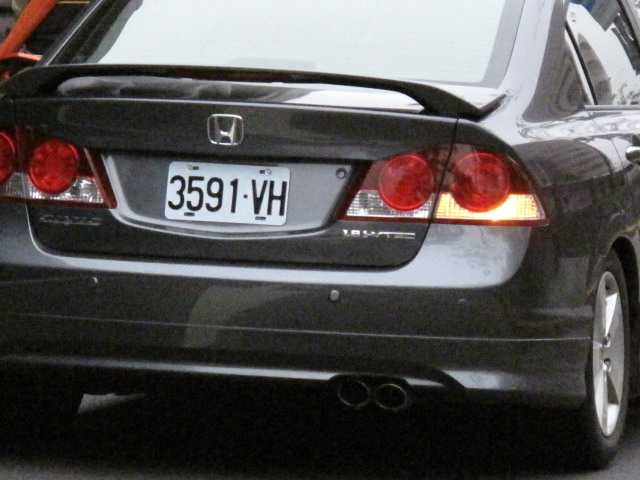plate: (162, 159, 291, 228)
